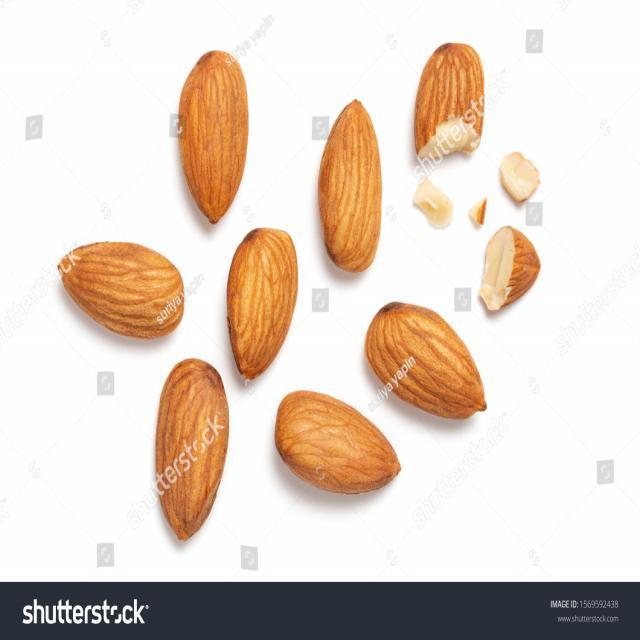almond: (173, 47, 252, 232), (365, 302, 488, 420), (272, 390, 405, 497), (152, 358, 228, 542), (55, 239, 185, 344), (315, 95, 382, 272), (225, 225, 298, 383)
